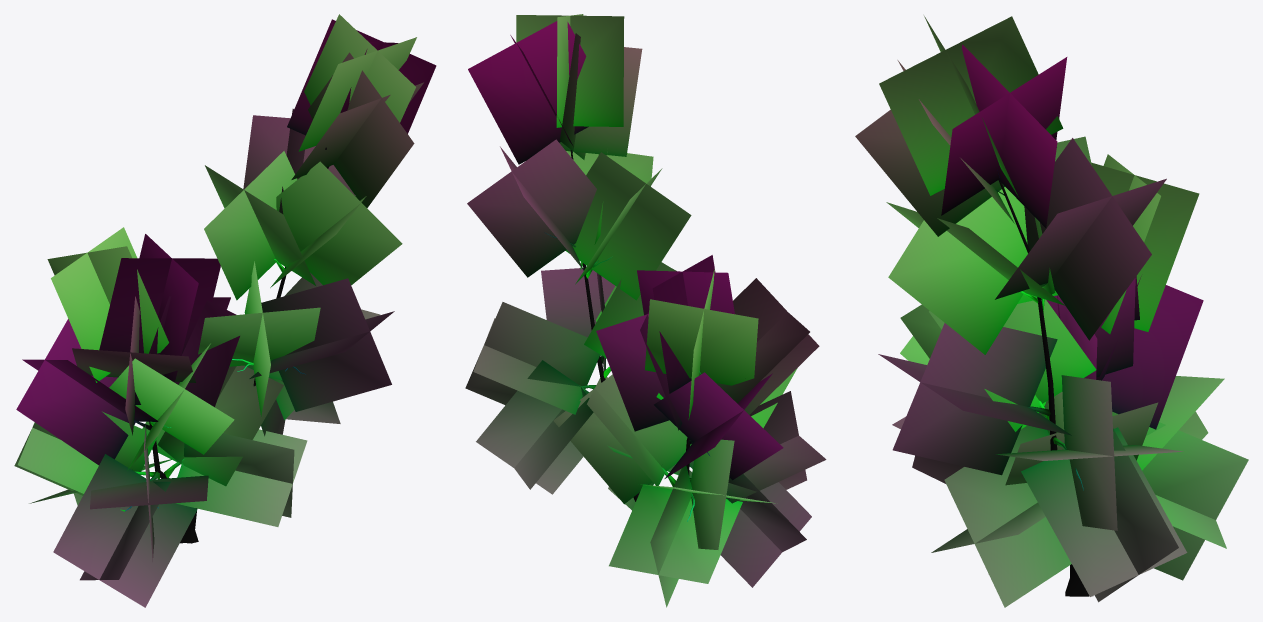
File: M_P1_Tree_18.fbx
3 renders of one model, left to right at view 1: azimuth 30°, elevation 25°; view 2: azimuth 150°, elevation 25°; view 3: azimuth 270°, elevation 25°, orthographic. The views are drawn at different scales.
Visible parts, largest first — view 1: M_Tree_1_18; view 2: M_Tree_1_18; view 3: M_Tree_1_18.
Part boxes in pixels (<box>): M_Tree_1_18: <box>14,14,436,607</box>; M_Tree_1_18: <box>465,14,826,607</box>; M_Tree_1_18: <box>855,16,1248,607</box>.
Bounding box in the file's own units: 970 × 1390 × 725.
